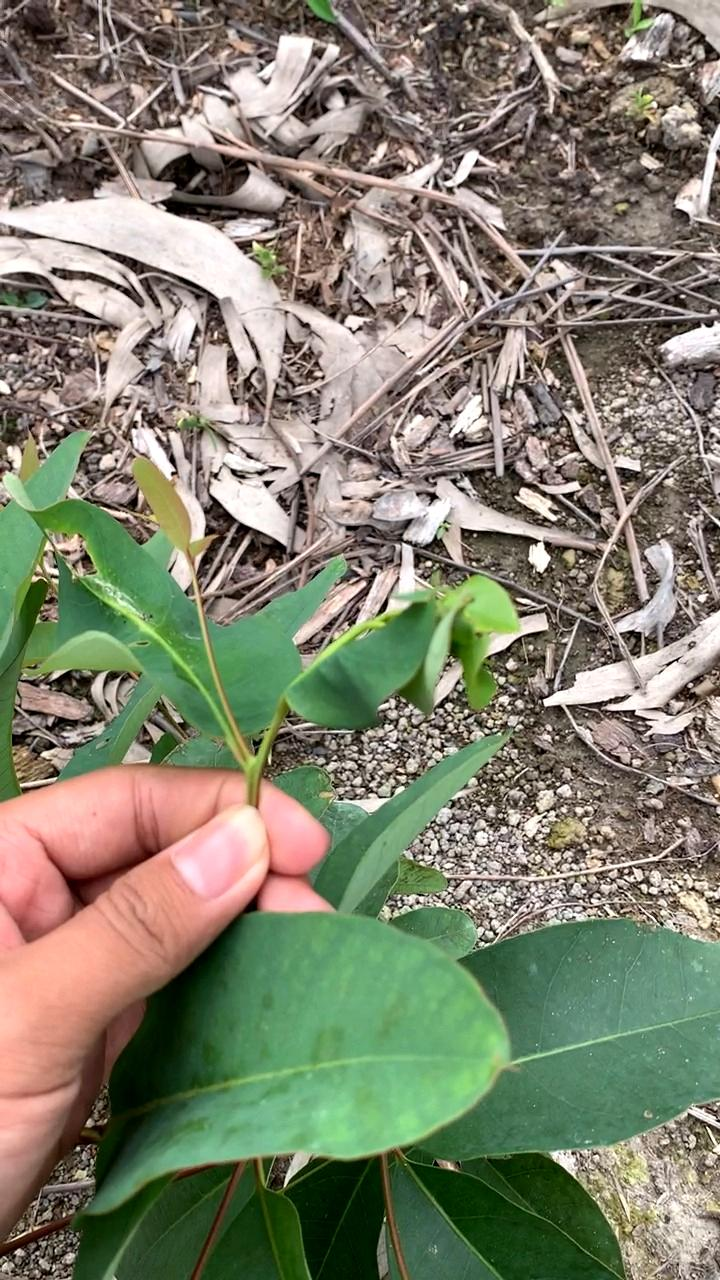Leaf Roller - Leaf: (270, 583, 515, 725)
